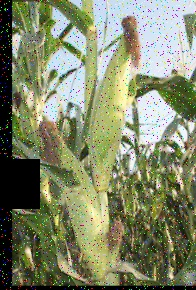corn_plant: (38, 121, 111, 281), (96, 14, 142, 191)
